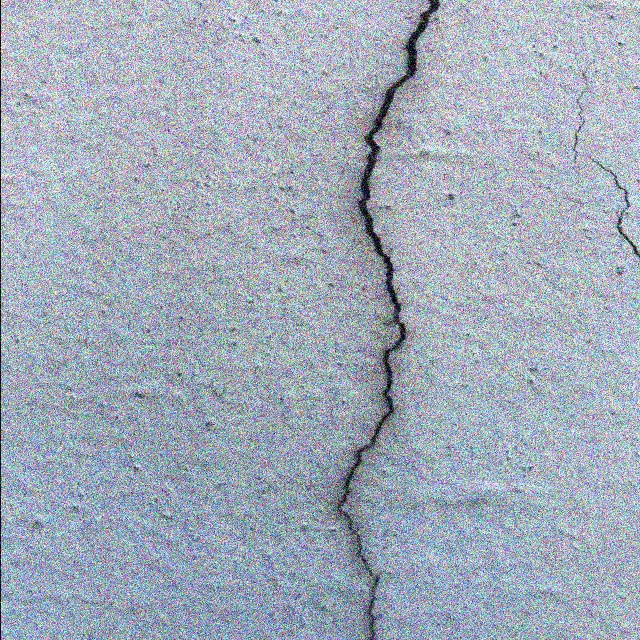SurfaceCrack: (300, 0, 481, 640), (556, 2, 638, 291)
